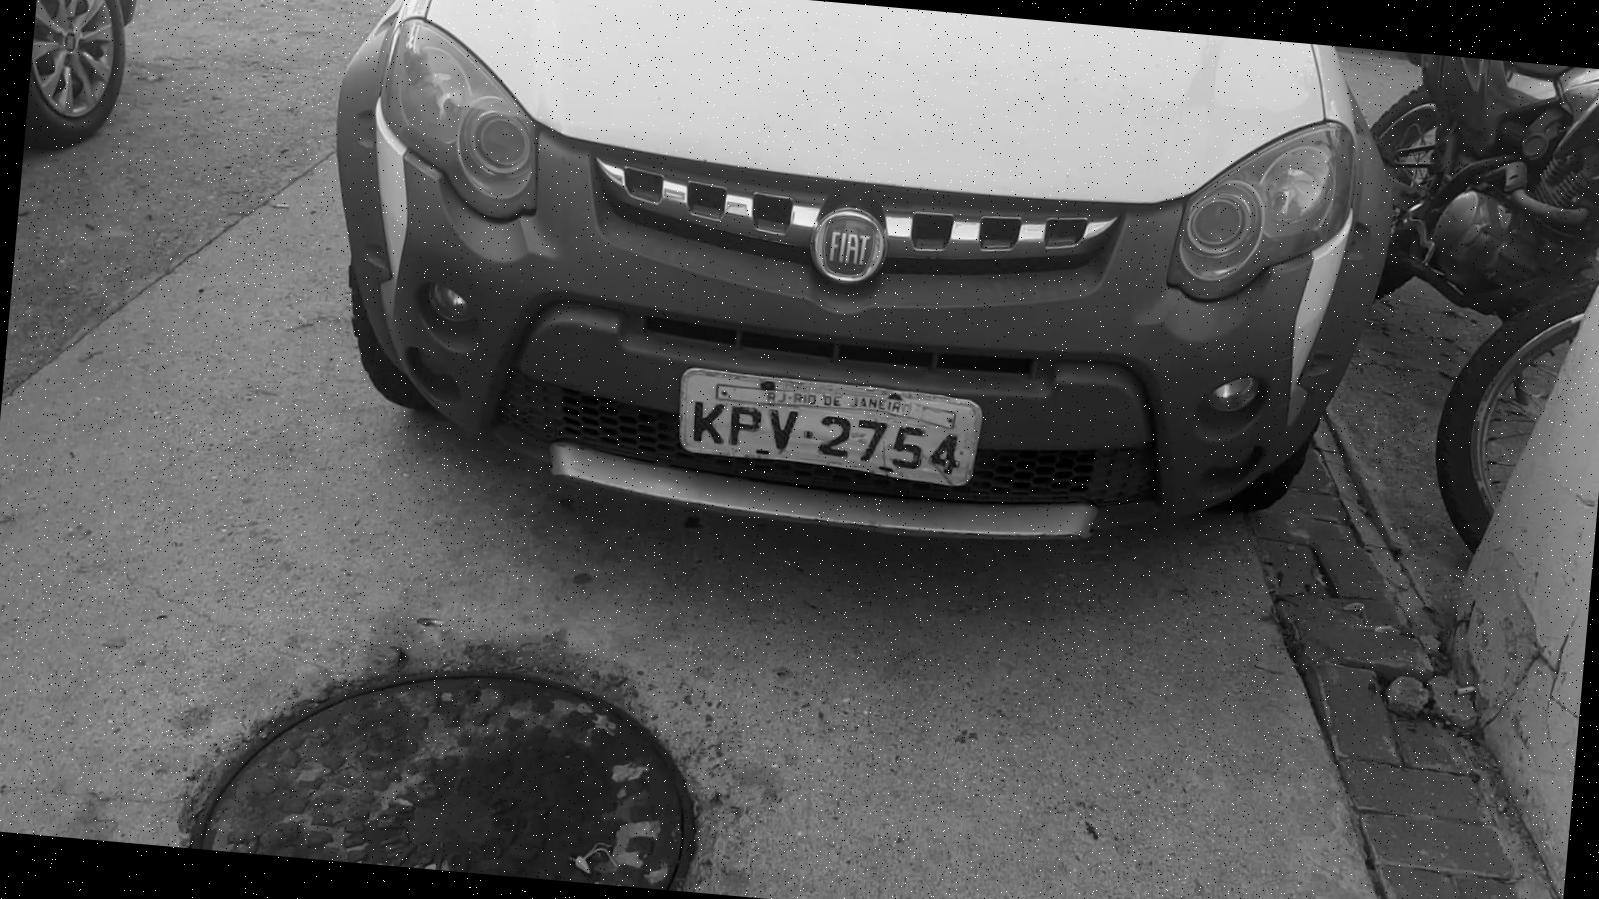placa_antiga: (678, 367, 980, 485)
